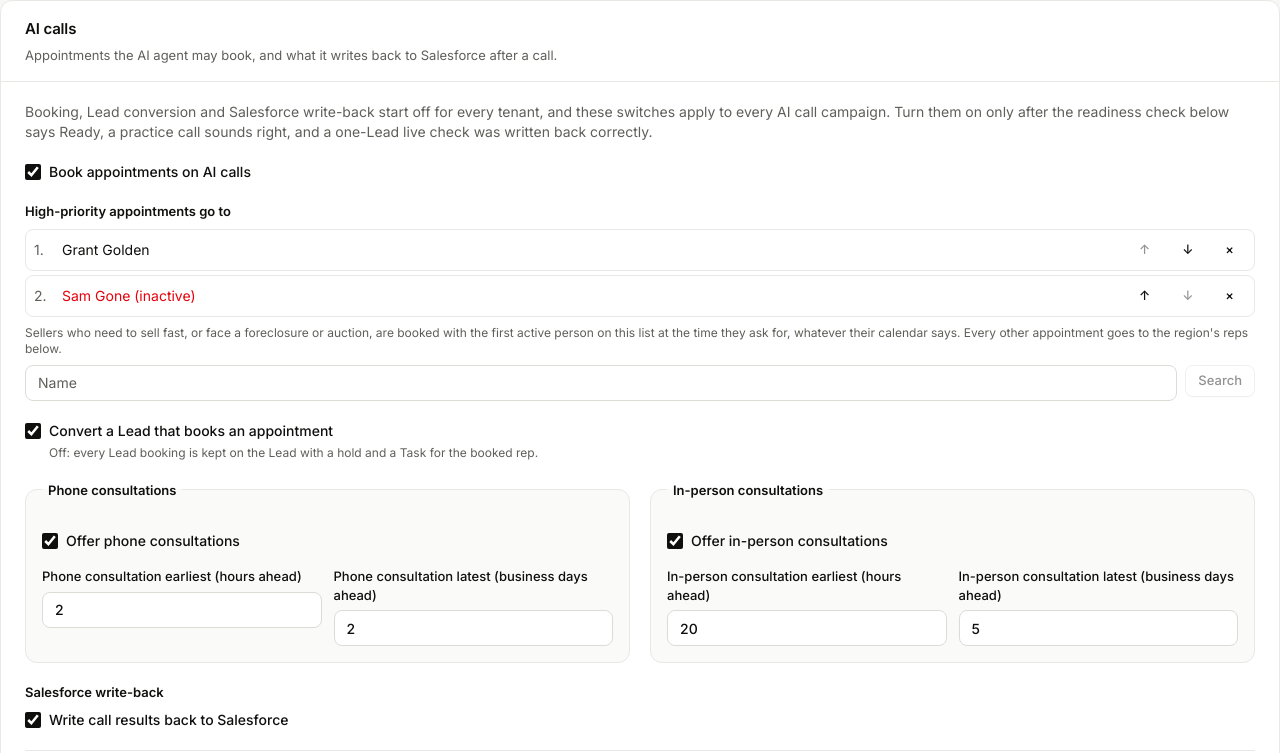
Test case: AiCallSettingsCard › the line appears once the last active person is removed
Expected: the text "Grant Golden" is shown, [62,241,150,258]
Expected: the text "No high-priority bookings: nobody active on the list" is not shown
Click the button named "Remove Grant Golden" at (1230, 250), box [1213,234,1246,266]
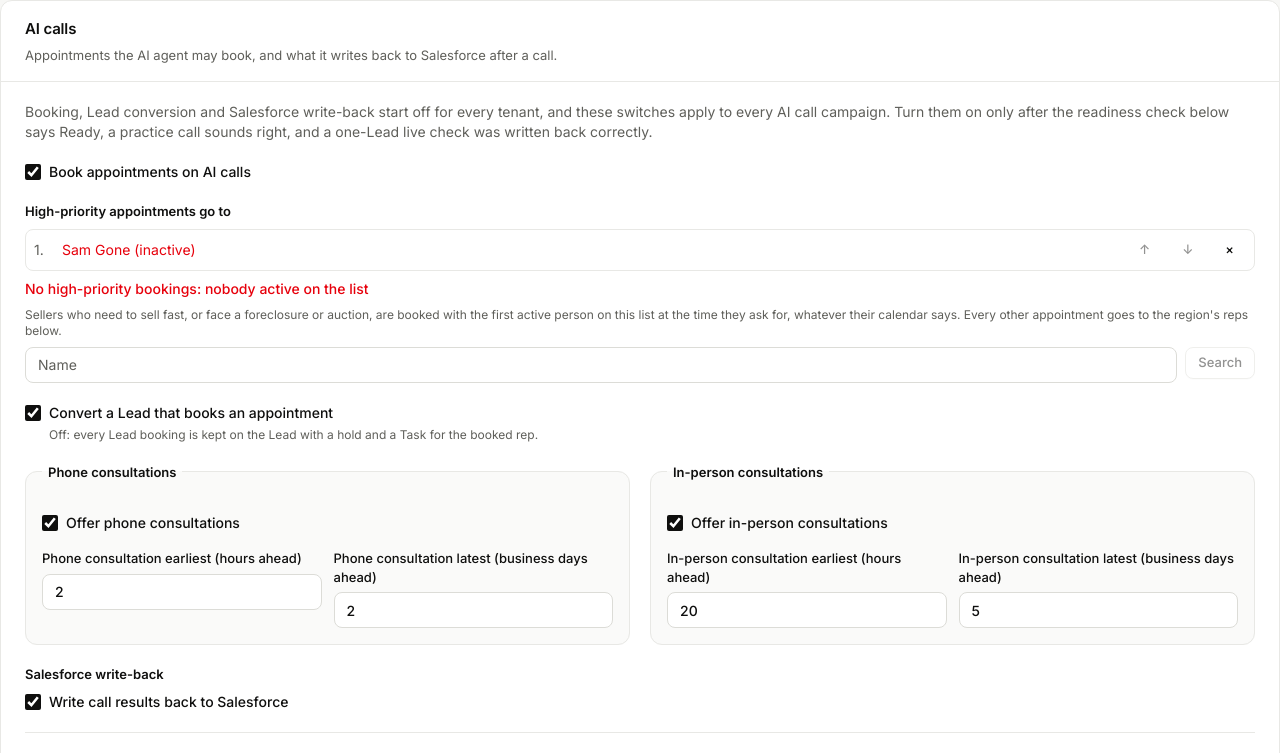
Result: the text "No high-priority bookings: nobody active on the list" is shown at [25,280,369,297]
